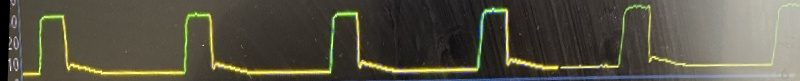normal_pressure: (32, 2, 779, 81)
